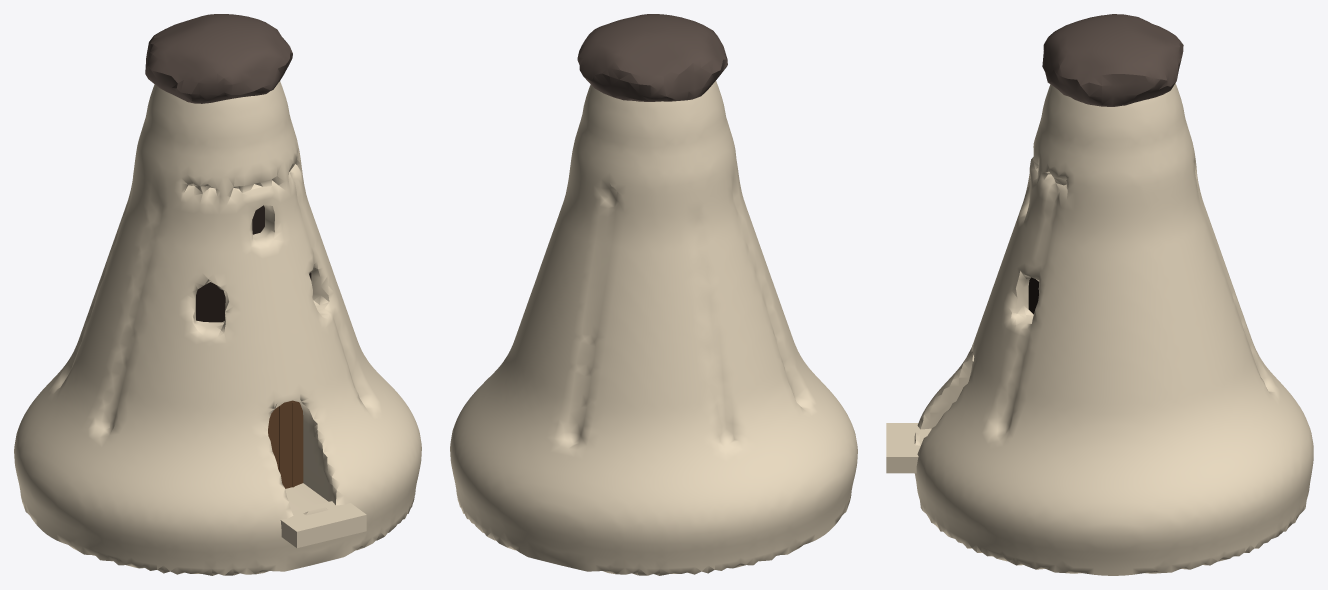
The model's file is chimney-house.glb.
3 views of the same model, side by side, from view 1: azimuth 30°, elevation 25°; view 2: azimuth 150°, elevation 25°; view 3: azimuth 270°, elevation 25° (orthographic).
Visible parts, largest first — view 1: body, cap0, tuff8, wood1, hole5; view 2: body, cap0; view 3: body, cap0, tuff8.
Boxes of the visible parts, left/top/right/bottom form: body: left=14, top=81, right=421, bottom=575; cap0: left=145, top=14, right=292, bottom=103; tuff8: left=280, top=501, right=366, bottom=547; wood1: left=268, top=400, right=303, bottom=488; hole5: left=196, top=282, right=225, bottom=322; body: left=450, top=81, right=857, bottom=575; cap0: left=577, top=14, right=727, bottom=101; body: left=914, top=83, right=1313, bottom=575; cap0: left=1042, top=14, right=1183, bottom=106; tuff8: left=886, top=423, right=931, bottom=473.
Size of the model in its own units: 8.12 by 10.2 by 8.5.
